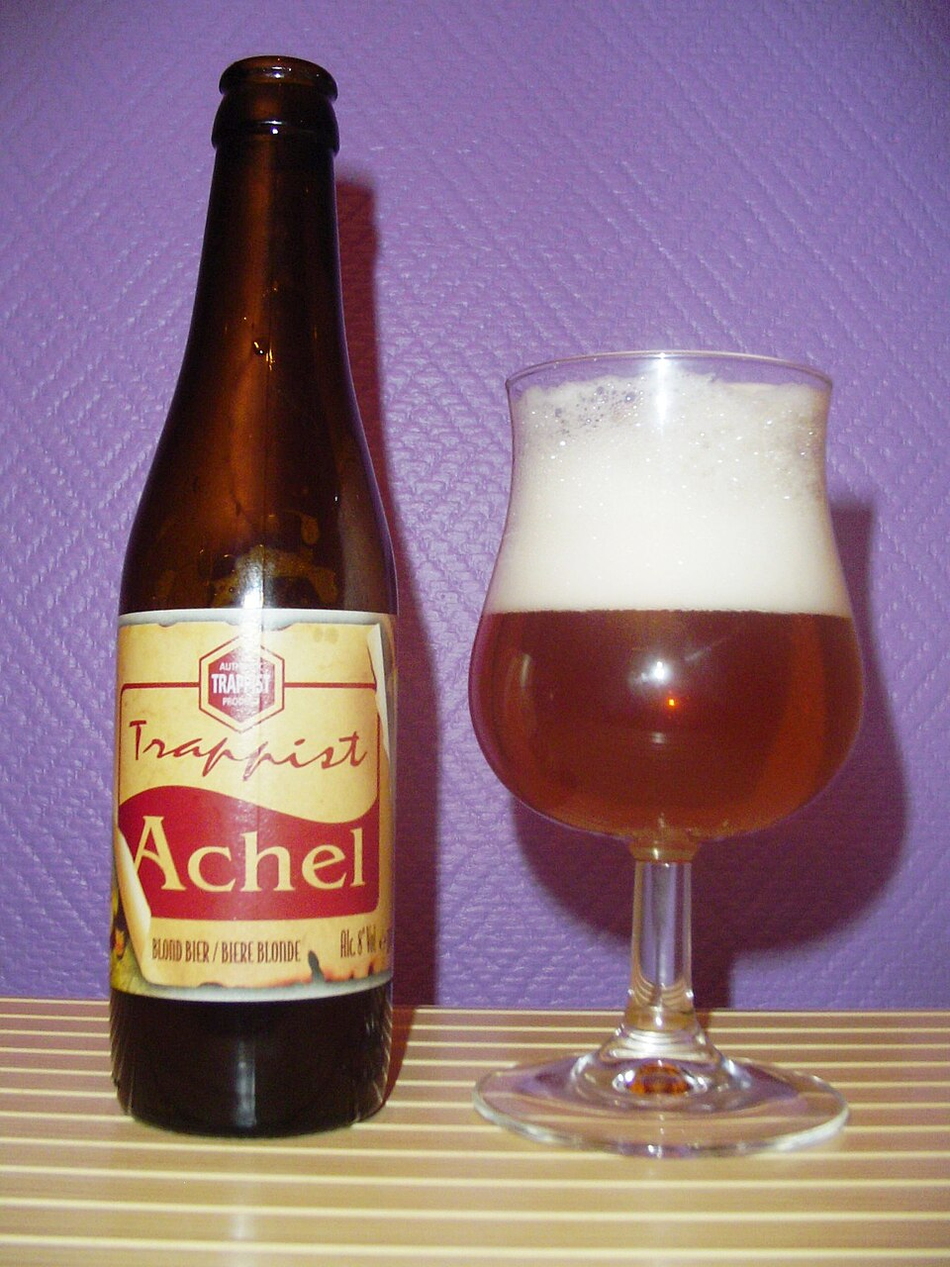beer-bottle: (104, 39, 406, 1174)
